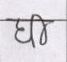i_matra: (32, 14, 47, 45)
